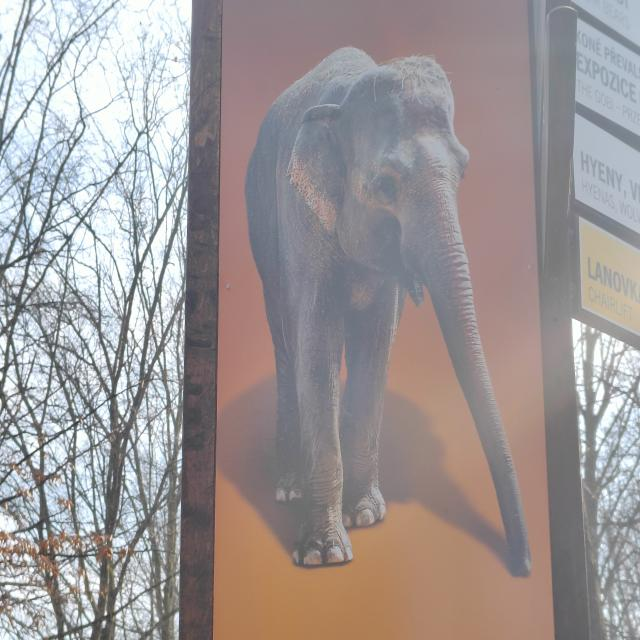elephant: (244, 43, 532, 579)
